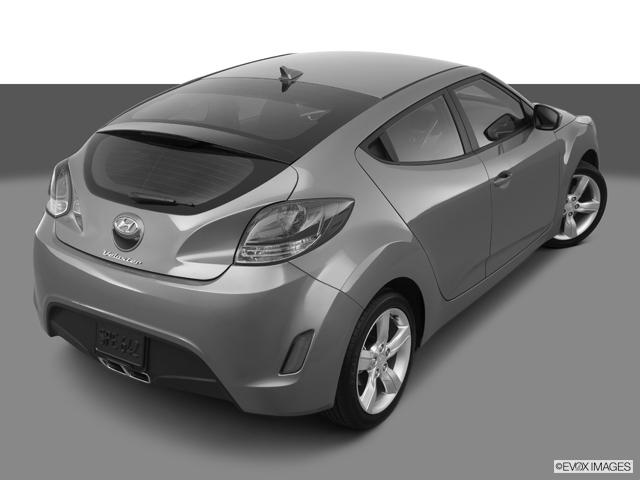car: (24, 51, 612, 435)
